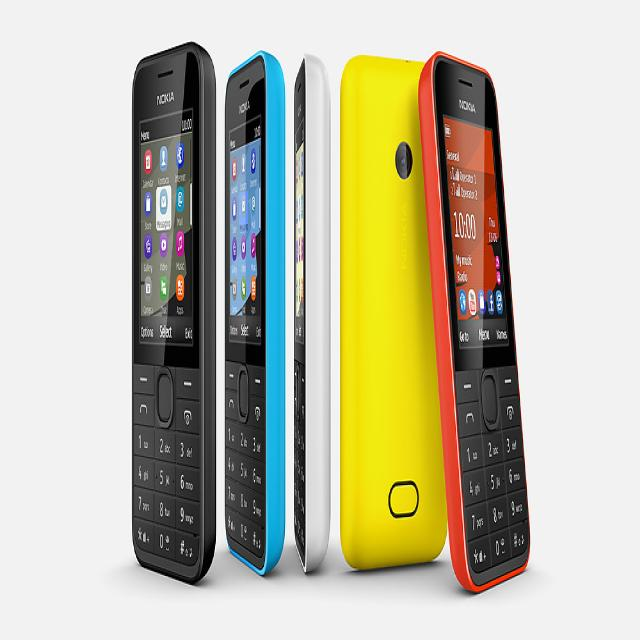mobile phone: (417, 49, 531, 594), (340, 52, 448, 571), (130, 39, 216, 584), (223, 49, 286, 576), (292, 51, 331, 574)
